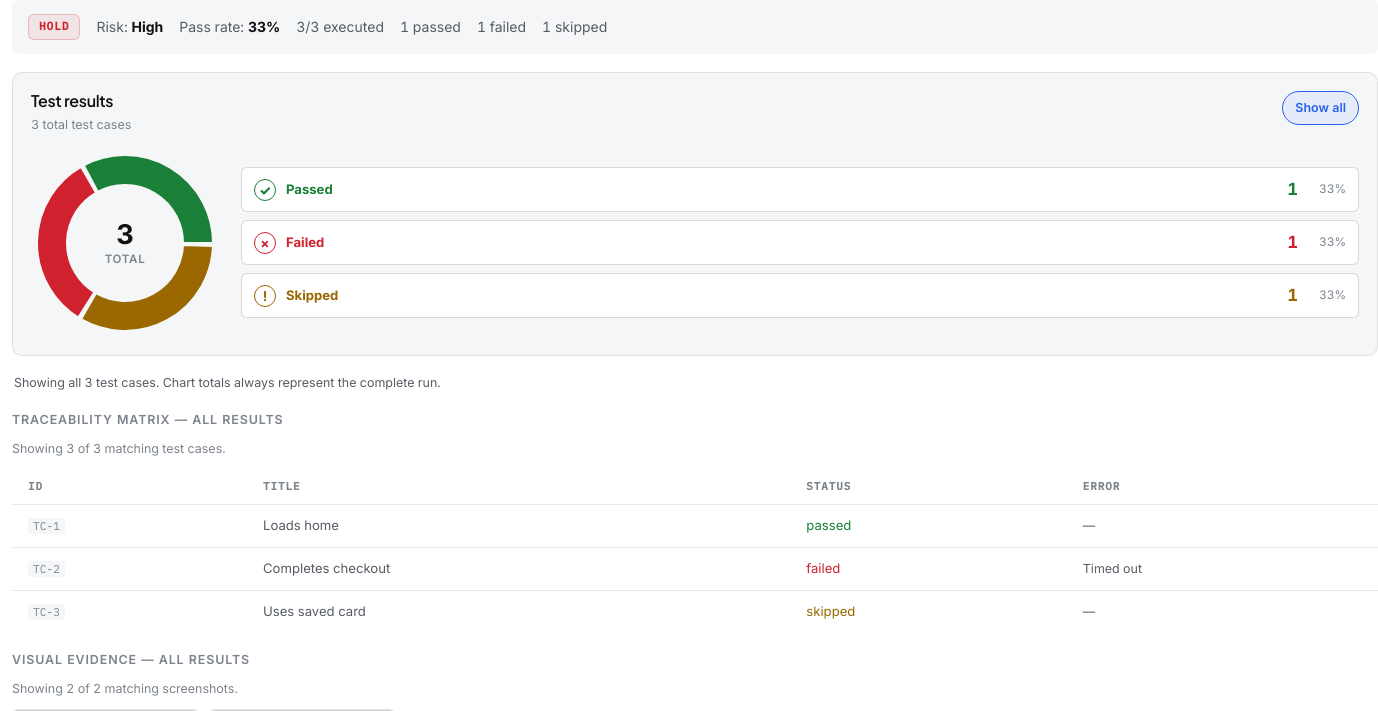
ManagerTab result filters › filters test cases and evidence when skipped is selected
Click the button "! Skipped 1 33%": (312, 295) [241,273,1359,318]
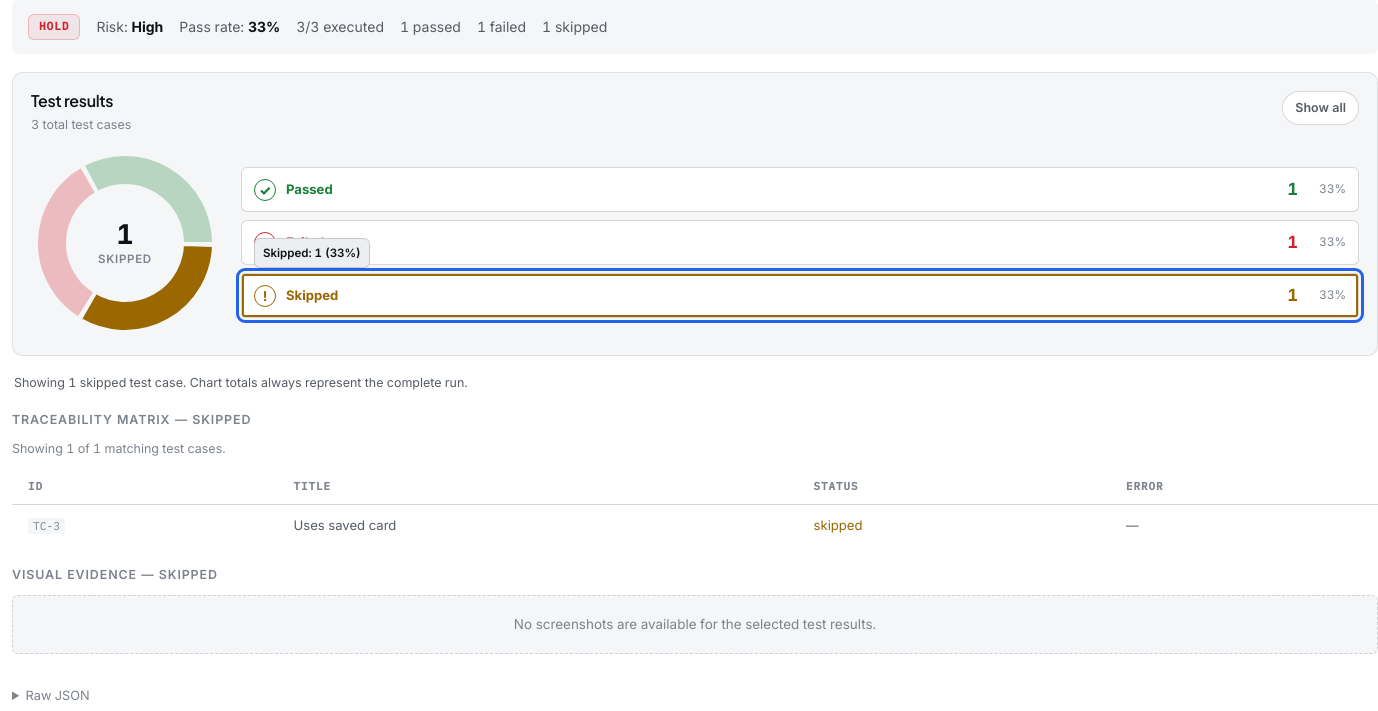
Expected: the text "TC-1" is gone
Expected: the text "TC-2" is gone
Expected: the text "No screenshots are available for the selected test results." is shown, [12,595,1377,654]
